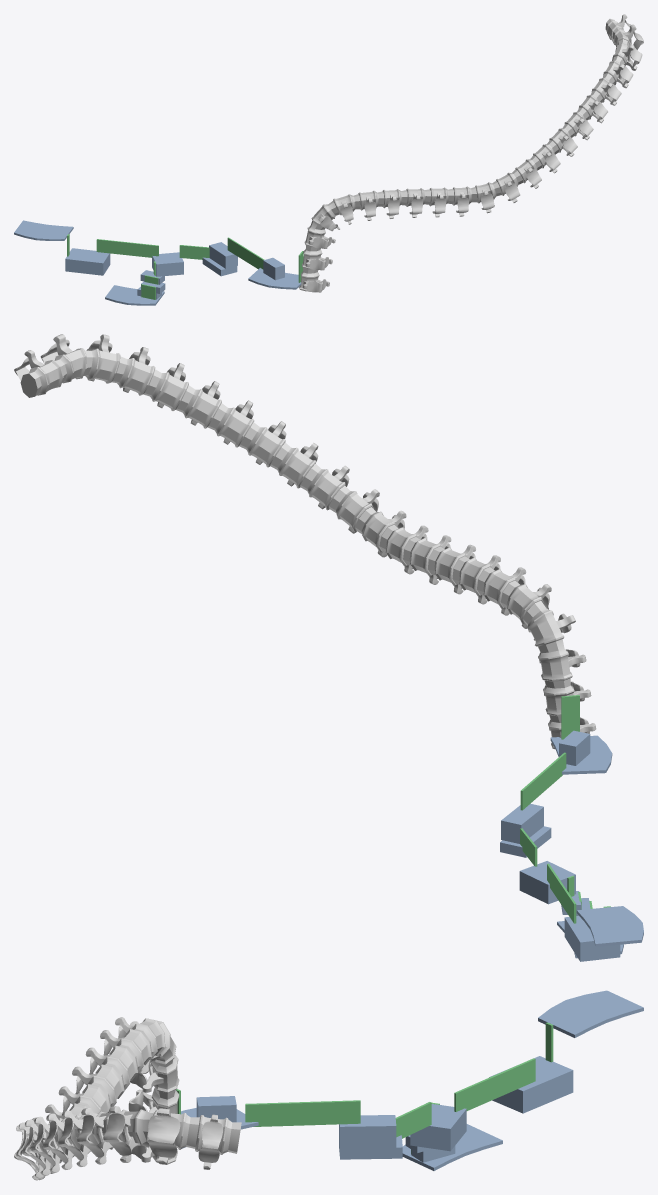
Rendered from another one.fbx.
3 views of the same model, one above another, from view 1: azimuth 30°, elevation 25°; view 2: azimuth 150°, elevation 25°; view 3: azimuth 270°, elevation 25° (orthographic). The views are drawn at different scales.
Parts seen in each view (by area): view 1: Cylinder.006, Cube.170, Cube.190, Cube.173, Cube.189, Cube.176; view 2: Cylinder.006, Cube.170, Cube.189, Cube.176; view 3: Cylinder.006, Cube.170, Cube.189, Cube.190, Cube.173, Cube.176, Cube.178, Cube.172, Cube.188, Cube.180, Cube.174, Cube.177 (+3 smaller).
Boxes of the visible parts, box(x1,y1,x2,y2) form: Cylinder.006: box(299, 14, 643, 292); Cube.170: box(14, 220, 301, 305); Cube.190: box(96, 239, 158, 257); Cube.173: box(65, 248, 110, 269); Cube.189: box(227, 237, 264, 269); Cube.176: box(152, 252, 183, 270); Cylinder.006: box(14, 334, 596, 749); Cube.170: box(550, 735, 643, 958); Cube.189: box(520, 752, 566, 810); Cube.176: box(519, 861, 575, 894); Cylinder.006: box(14, 1017, 241, 1180); Cube.170: box(181, 990, 643, 1170); Cube.189: box(245, 1100, 360, 1126); Cube.190: box(454, 1058, 535, 1111); Cube.173: box(489, 1056, 573, 1102); Cube.176: box(411, 1104, 466, 1139); Cube.178: box(339, 1115, 396, 1137); Cube.172: box(492, 1081, 573, 1113); Cube.188: box(395, 1102, 431, 1138); Cube.180: box(196, 1096, 236, 1117); Cube.174: box(339, 1135, 402, 1159); Cube.177: box(339, 1129, 396, 1149).
Bounding box in the file's own units: 25762 × 10925 × 15314.
